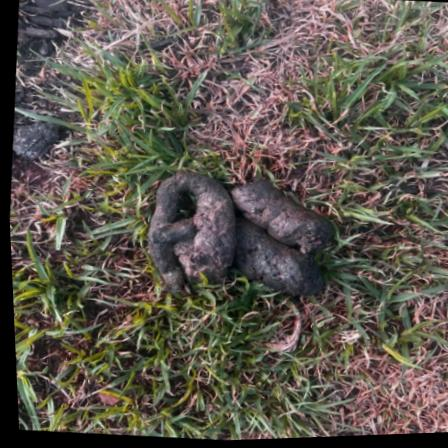dog-poop: (126, 160, 341, 319)
